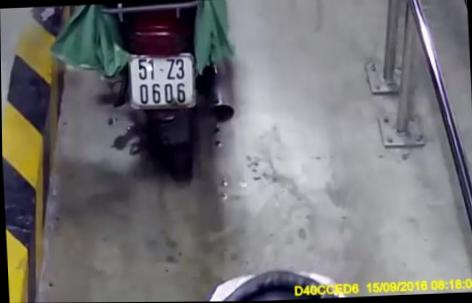LP: (127, 52, 197, 111)
